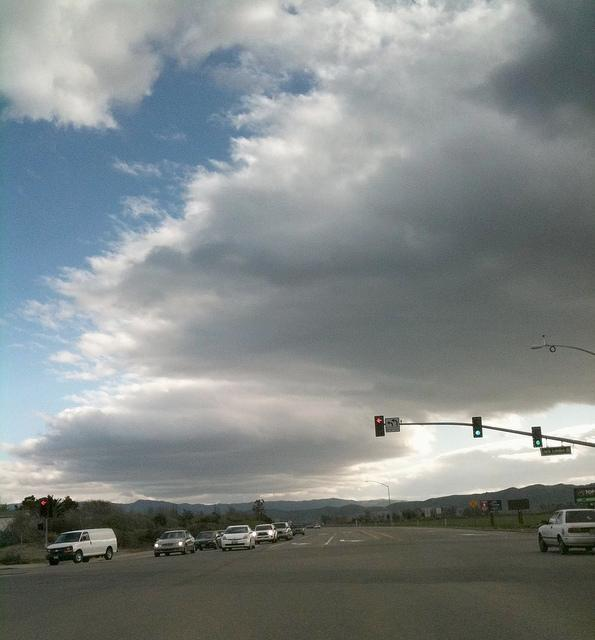car: (536, 506, 595, 552), (154, 530, 196, 558), (222, 525, 256, 551), (195, 531, 222, 550), (255, 525, 278, 545), (272, 522, 294, 540), (292, 522, 306, 536), (315, 524, 321, 529)
truck: (44, 527, 118, 566)
